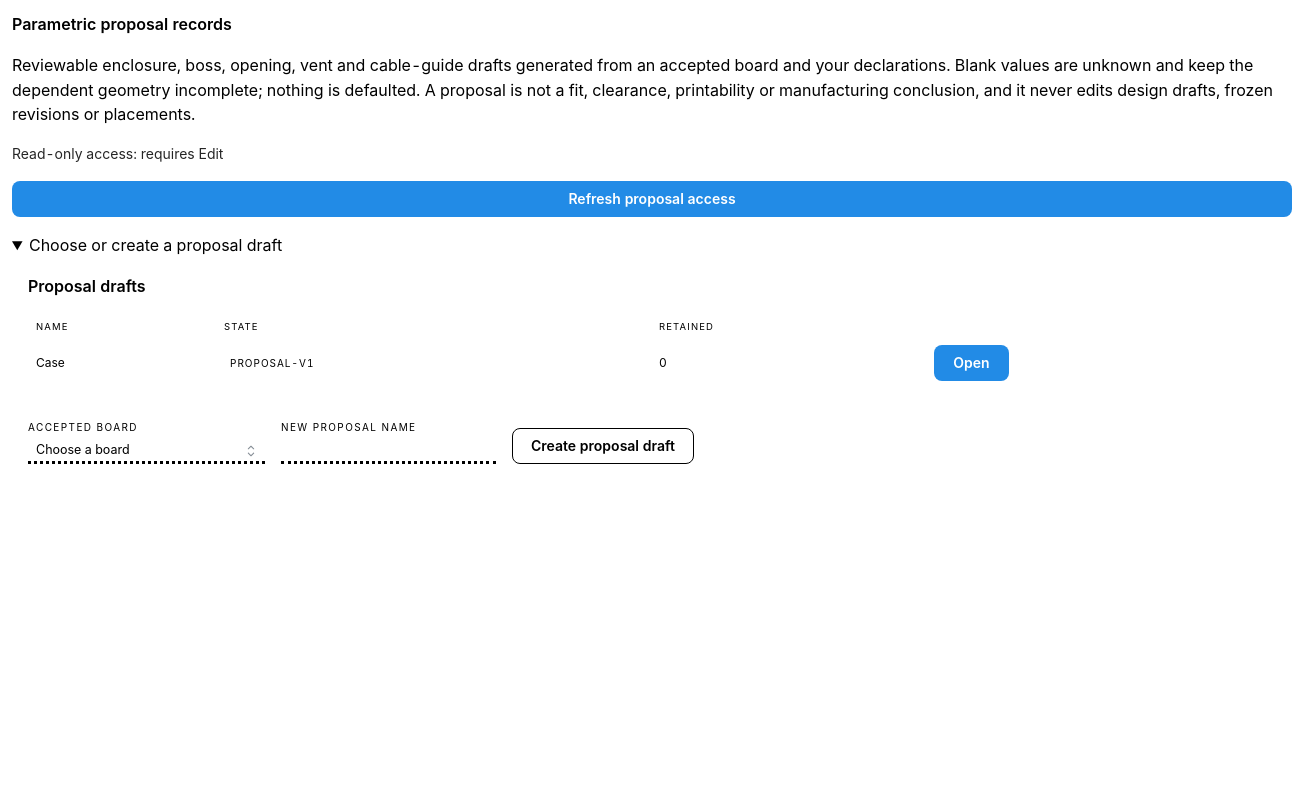
Test: read-only members cannot create, edit, save or retain, with a visible reason
The width and height of the screenshot is (1304, 806).
Click the button with aria-label "Open proposal Case": (971, 363) left=934, top=345, right=1008, bottom=381
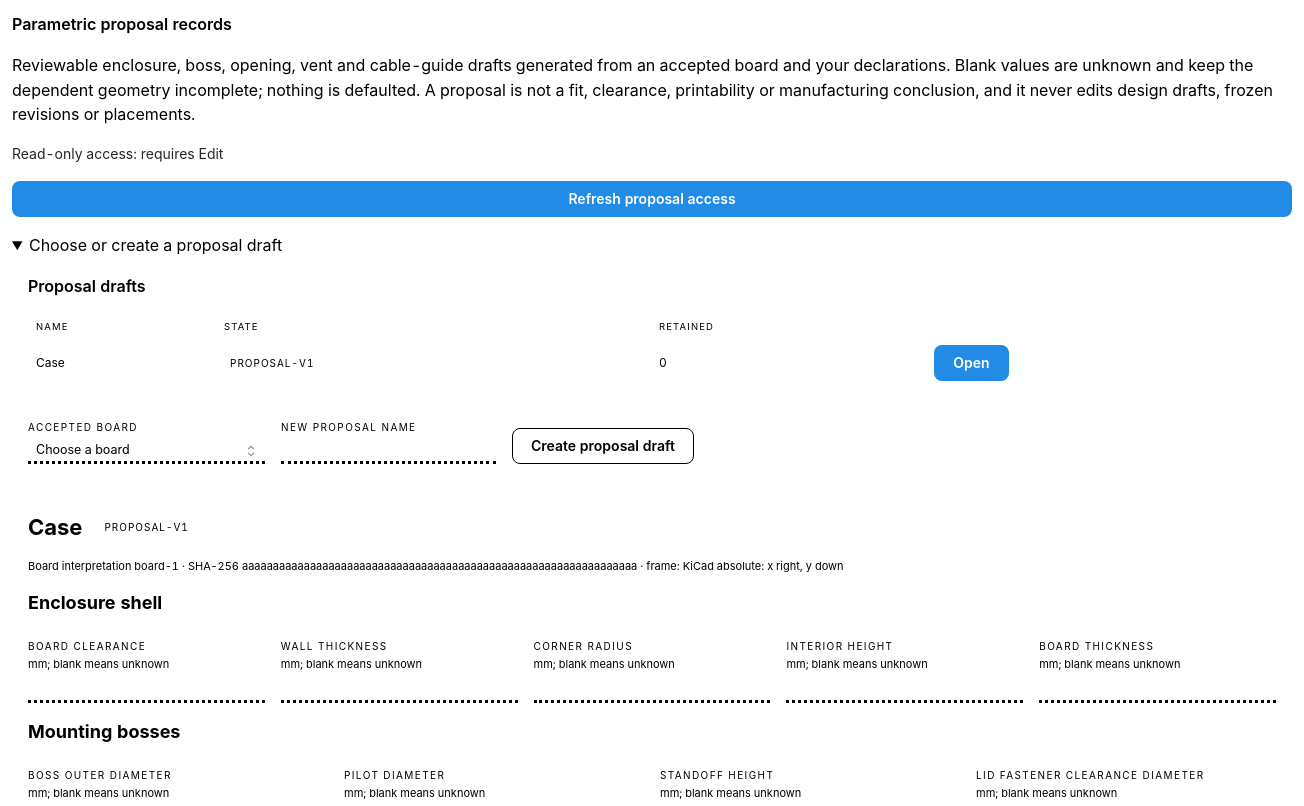
expect the text "Read-only access: requires Edit" is shown: met, box left=12, top=145, right=223, bottom=162
expect the field labelled "Wall thickness" is enabled: met, box left=281, top=677, right=518, bottom=703
